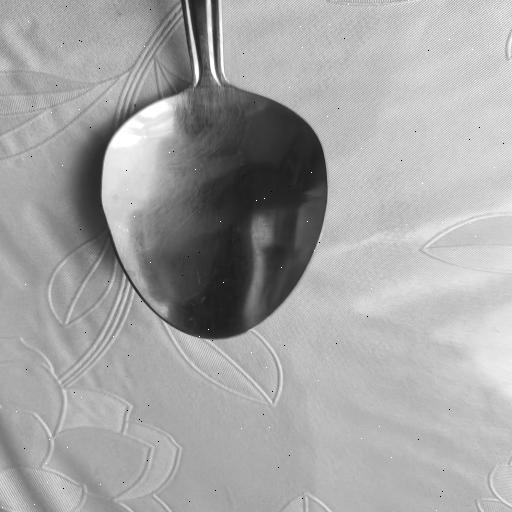spoon: (102, 0, 332, 338)
